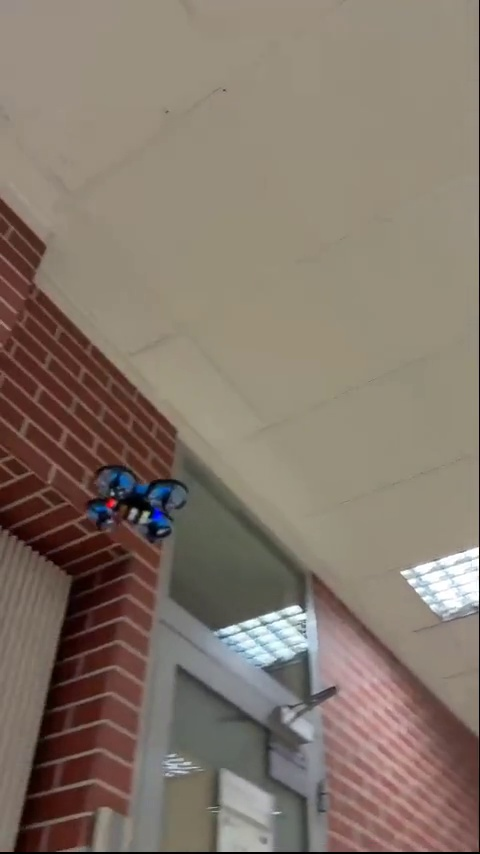drone: (86, 460, 188, 539)
